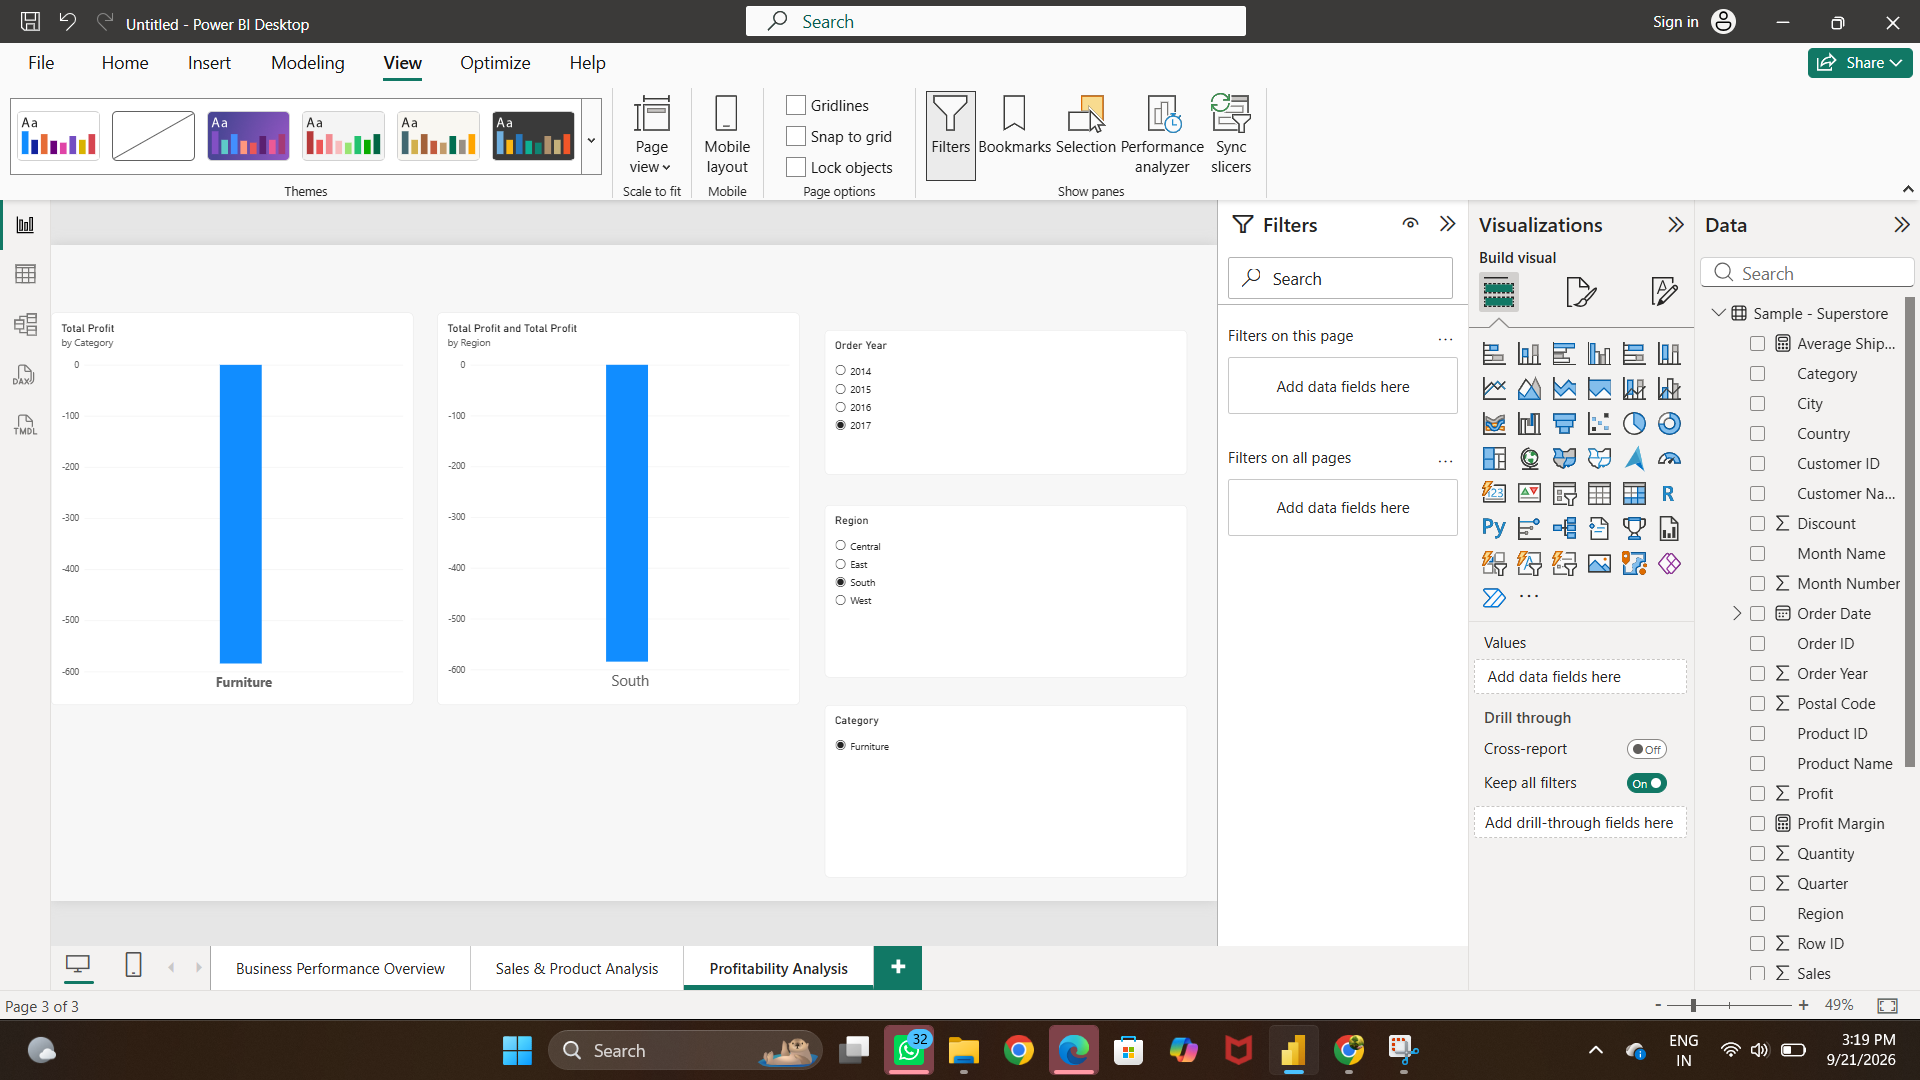

What the dashboard file says about the page in this screenshot:
{"tool":"powerbi","page":{"name":"Profitability Analysis","canvas":[1920,1080],"ordinal":2},"visuals":[{"type":"clusteredColumnChart","fields":{"Y":["Sample - Superstore.Total Profit"],"Category":["Sample - Superstore.Category"]},"box":[0,111.1,596.9,646.3],"z":0},{"type":"clusteredColumnChart","fields":{"Category":["Sample - Superstore.Region"],"Y":["Sample - Superstore.Total Profit"]},"box":[636,111.1,597,646],"z":1000},{"type":"listSlicer","fields":{"Values":["Sample - Superstore.Year"]},"box":[1274.1,140,596.9,238.8],"z":1001},{"type":"listSlicer","fields":{"Values":["Sample - Superstore.Region"]},"box":[1274.1,428.1,597,284],"z":1002},{"type":"listSlicer","fields":{"Values":["Sample - Superstore.Category"]},"box":[1274.1,757.5,597,284],"z":1003}]}

Visuals, with their boxes on the page's 1920x1080 design canvas (x1, y1, x2, y2). These are canvas units, not pixel positions in the 1920x1080 screenshot, which may show the page scaled, cropped or inside an application window:
clusteredColumnChart - Sample - Superstore.Total Profit x Sample - Superstore.Category: 0,111,597,757
clusteredColumnChart - Sample - Superstore.Region x Sample - Superstore.Total Profit: 636,111,1233,757
listSlicer - Sample - Superstore.Year: 1274,140,1871,379
listSlicer - Sample - Superstore.Region: 1274,428,1871,712
listSlicer - Sample - Superstore.Category: 1274,758,1871,1042
